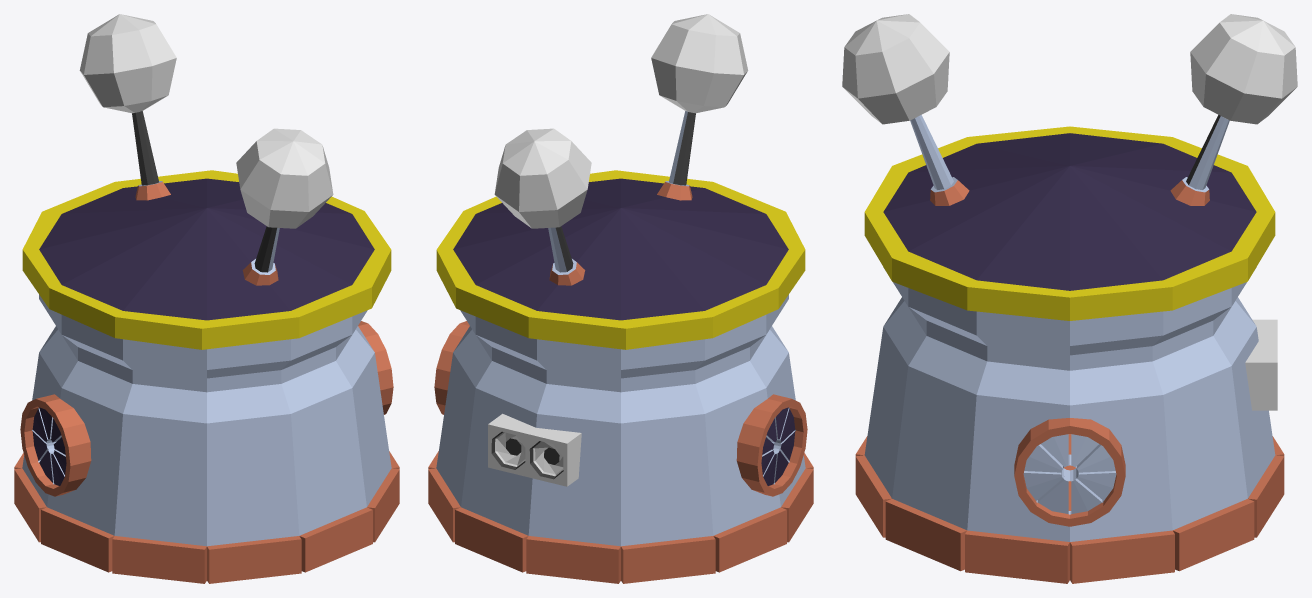
Rendered from Radar.fbx.
3 renders of one model, left to right at view 1: azimuth 30°, elevation 25°; view 2: azimuth 150°, elevation 25°; view 3: azimuth 270°, elevation 25°, orthographic. The views are drawn at different scales.
Visible parts, largest first — view 1: Radar; view 2: Radar; view 3: Radar.
Part boxes in pixels (x1=…): Radar: x1=14, y1=14, x2=399, y2=583; Radar: x1=428, y1=14, x2=813, y2=583; Radar: x1=842, y1=14, x2=1297, y2=583.
Bounding box in the file's own units: 544 × 661 × 578.
